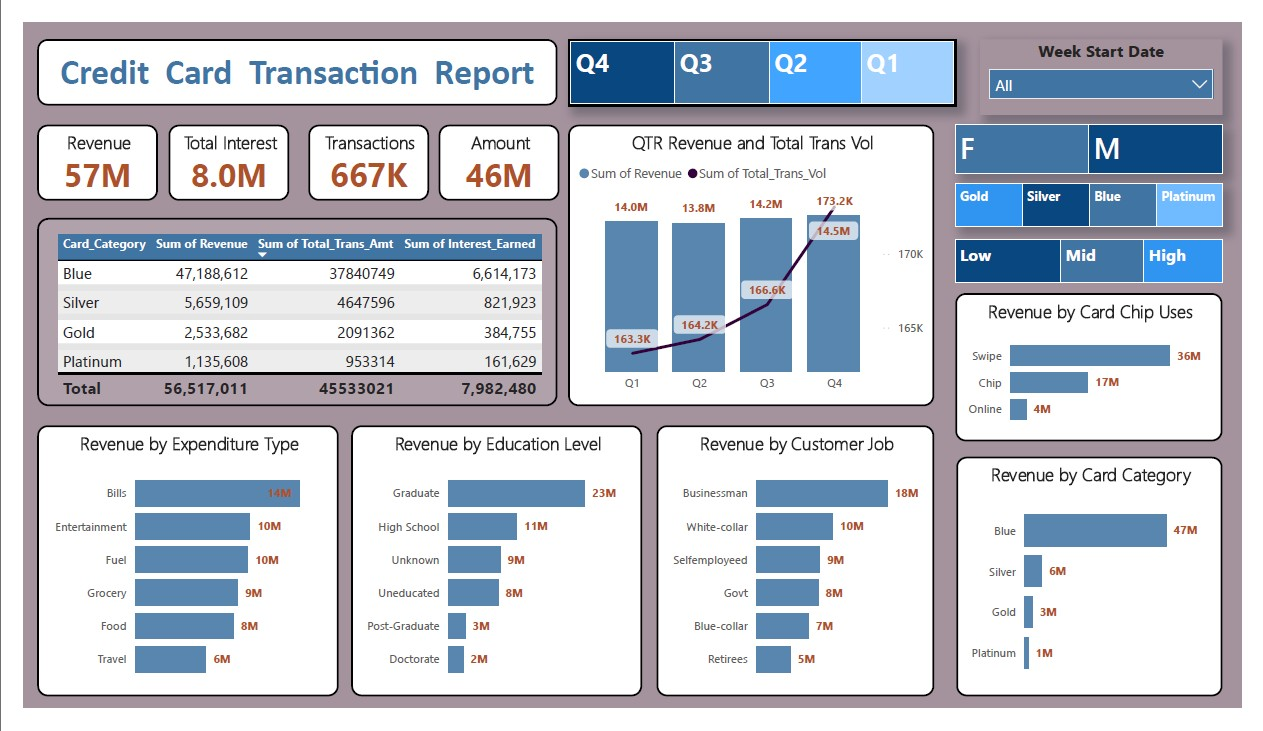

Layout of this report page (visuals, bound fields, positions):
{"tool":"powerbi","page":{"name":"Credit Card Transactions","canvas":[1280,720],"ordinal":1},"visuals":[{"type":"textbox","box":[14.2,16.7,546.8,70.8],"z":0},{"type":"lineStackedColumnComboChart","title":"QTR Revenue and Total Trans Vol","fields":{"Category":["credit_card.Qtr"],"Y":["Sum(credit_card.Revenue)"],"Y2":["Sum(credit_card.Total_Trans_Vol)"]},"box":[571.9,107.4,384.9,295.6],"z":1000},{"type":"clusteredBarChart","title":"Revenue by Expenditure Type","fields":{"Y":["Sum(credit_card.Revenue)"],"Category":["credit_card.Exp Type"]},"box":[14.2,423.3,316.5,284.4],"z":2000},{"type":"clusteredBarChart","title":"Revenue by Education Level","fields":{"Y":["Sum(credit_card.Revenue)"],"Category":["credit cust.Education_Level"]},"box":[343.5,423.3,306.2,284.4],"z":3000},{"type":"clusteredBarChart","title":"Revenue by Customer Job","fields":{"Y":["Sum(credit_card.Revenue)"],"Category":["credit cust.Customer_Job"]},"box":[664.7,423.5,292,284.7],"z":4000},{"type":"clusteredBarChart","title":"Revenue by Card Category","fields":{"Y":["Sum(credit_card.Revenue)"],"Category":["credit_card.Card_Category"]},"box":[979.6,456,279.9,252.1],"z":5000},{"type":"clusteredBarChart","title":"Revenue by Card Chip Uses","fields":{"Y":["Sum(credit_card.Revenue)"],"Category":["credit_card.Use Chip"]},"box":[979.2,284.4,280.5,155.7],"z":6000},{"type":"tableEx","fields":{"Values":["credit_card.Card_Category","Sum(credit_card.Revenue)","Sum(credit_card.Total_Trans_Amt)","Sum(credit_card.Interest_Earned)"]},"box":[14.5,205.1,546.5,197.9],"z":7000},{"type":"card","title":"Revenue","fields":{"Values":["Sum(credit_card.Revenue)"]},"box":[14.2,106.8,127,79.8],"z":8000},{"type":"card","title":"Total Interest","fields":{"Values":["Sum(credit_card.Interest_Earned)"]},"box":[152,106.8,127,79.8],"z":9000},{"type":"card","title":"Transactions","fields":{"Values":["Sum(credit_card.Total_Trans_Vol)"]},"box":[299,107,127,79.8],"z":10000},{"type":"card","title":"Amount","fields":{"Values":["Sum(credit_card.Total_Trans_Amt)"]},"box":[436.2,106.8,127,79.8],"z":11000},{"type":"slicer","title":"Week Start Date","fields":{"Values":["credit_card.Week_Start_Date"]},"box":[1005,16.9,254.6,79.6],"z":12000},{"type":"treemap","fields":{"Group":["credit_card.Qtr"],"Values":["Avg(credit_card.ï»¿Client_Num)"]},"box":[571.9,16.9,407.8,71.2],"z":13000},{"type":"treemap","title":"Gender","fields":{"Group":["credit cust.Gender"],"Values":["Avg(credit cust.ï»¿Client_Num)"]},"box":[979.2,106.8,280.5,51.5],"z":14000},{"type":"treemap","fields":{"Group":["credit_card.Card_Category"],"Values":["Avg(credit cust.ï»¿Client_Num)"]},"box":[979.2,168.6,280.5,45],"z":15000},{"type":"treemap","fields":{"Group":["credit cust.IncomeGroup"],"Values":["Sum(credit cust.ï»¿Client_Num)"]},"box":[979.2,227.7,280.5,45],"z":16000}]}

Visuals, with their boxes in screenshot pixels (x1, y1, x2, y2), scaled from the page's 1280x720 canvas onto the 1263x731 screenshot:
textbox: box=[14, 17, 554, 89]
"QTR Revenue and Total Trans Vol" lineStackedColumnComboChart: box=[564, 109, 944, 409]
"Revenue by Expenditure Type" clusteredBarChart: box=[14, 430, 326, 719]
"Revenue by Education Level" clusteredBarChart: box=[339, 430, 641, 719]
"Revenue by Customer Job" clusteredBarChart: box=[656, 430, 944, 719]
"Revenue by Card Category" clusteredBarChart: box=[967, 463, 1243, 719]
"Revenue by Card Chip Uses" clusteredBarChart: box=[966, 289, 1243, 447]
tableEx - credit_card.Card_Category x Sum(credit_card.Revenue): box=[14, 208, 554, 409]
"Revenue" card: box=[14, 108, 139, 189]
"Total Interest" card: box=[150, 108, 275, 189]
"Transactions" card: box=[295, 109, 420, 190]
"Amount" card: box=[430, 108, 556, 189]
"Week Start Date" slicer: box=[992, 17, 1243, 98]
treemap - credit_card.Qtr x Avg(credit_card.ï»¿Client_Num): box=[564, 17, 967, 89]
"Gender" treemap: box=[966, 108, 1243, 161]
treemap - credit_card.Card_Category x Avg(credit cust.ï»¿Client_Num): box=[966, 171, 1243, 217]
treemap - credit cust.IncomeGroup x Sum(credit cust.ï»¿Client_Num): box=[966, 231, 1243, 277]
